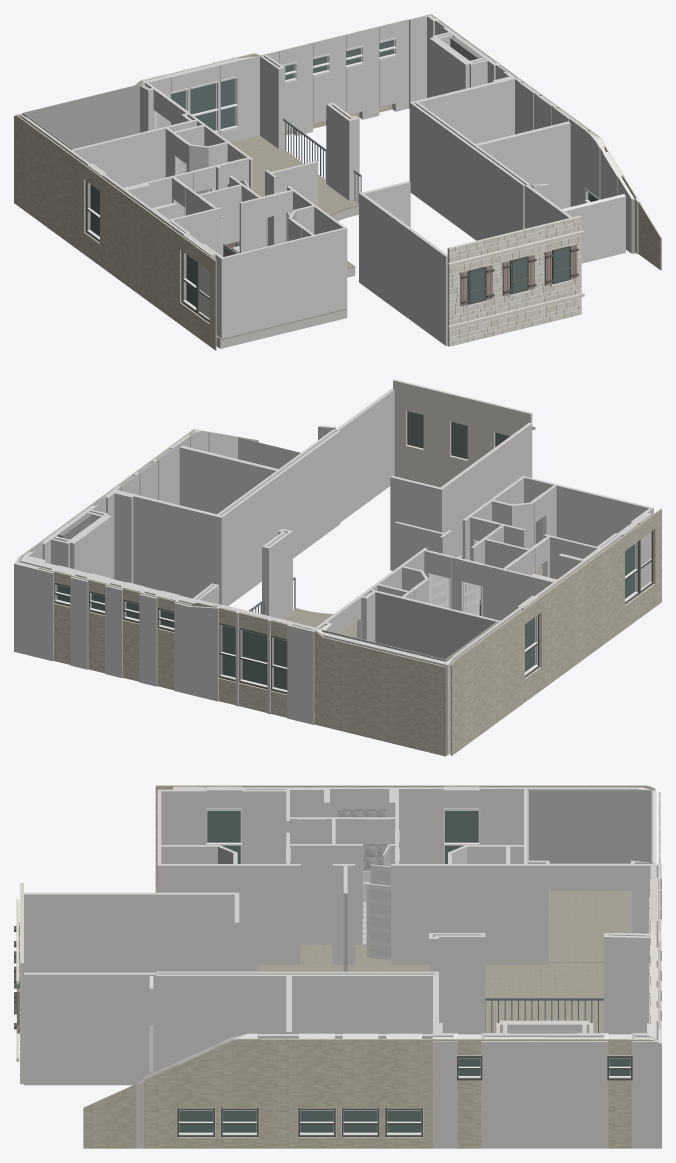
The model's file is second_floor.glb.
The picture shows the model from 3 angles, top to bottom: view 1: azimuth 30°, elevation 25°; view 2: azimuth 150°, elevation 25°; view 3: azimuth 270°, elevation 25°; orthographic projection. The views are drawn at different scales.
Visible parts, largest first — view 1: 0444_Upper_left_0, 0043_Source_vector_upper_walls_3_1, 0070_Source_vector_upper_walls_22_0, 0071_Source_vector_upper_walls_23_0, 0064_Source_vector_upper_walls_16_3, 0438_Media_Downpour_paint_0, 0042_Source_vector_upper_walls_3_0, 0068_Source_vector_upper_walls_20_0, 0069_Source_vector_upper_walls_21_0, 0040_Source_vector_upper_walls_2_0, 0065_Source_vector_upper_walls_17_0, 0003_Game room_floor_0 (+36 smaller); view 2: 0043_Source_vector_upper_walls_3_1, 0445_Upper_rear_0, 0444_Upper_left_0, 0446_Foyer_tower_stone, 0070_Source_vector_upper_walls_22_0, 0042_Source_vector_upper_walls_3_0, 0071_Source_vector_upper_walls_23_0, 0440_Media_Downpour_paint_0, 0068_Source_vector_upper_walls_20_0, 0040_Source_vector_upper_walls_2_0, 0064_Source_vector_upper_walls_16_3, 0060_Source_vector_upper_walls_15_1 (+23 smaller); view 3: 0043_Source_vector_upper_walls_3_1, 0443_Upper_right_0, 0064_Source_vector_upper_walls_16_3, 0071_Source_vector_upper_walls_23_0, 0040_Source_vector_upper_walls_2_0, 0070_Source_vector_upper_walls_22_0, 0068_Source_vector_upper_walls_20_0, 0439_Media_Downpour_paint_0, 0003_Game room_floor_0, 0069_Source_vector_upper_walls_21_0, 0065_Source_vector_upper_walls_17_0, 0004_Media room_floor_0 (+27 smaller).
Boxes of the visible parts, x1=… form: 0444_Upper_left_0: x1=14, y1=115, x2=216, y2=350; 0043_Source_vector_upper_walls_3_1: x1=409, y1=97, x2=581, y2=298; 0070_Source_vector_upper_walls_22_0: x1=198, y1=186, x2=347, y2=338; 0071_Source_vector_upper_walls_23_0: x1=359, y1=181, x2=447, y2=337; 0064_Source_vector_upper_walls_16_3: x1=22, y1=112, x2=253, y2=233; 0438_Media_Downpour_paint_0: x1=23, y1=83, x2=141, y2=148; 0042_Source_vector_upper_walls_3_0: x1=431, y1=72, x2=522, y2=143; 0068_Source_vector_upper_walls_20_0: x1=102, y1=171, x2=221, y2=303; 0069_Source_vector_upper_walls_21_0: x1=185, y1=176, x2=266, y2=252; 0040_Source_vector_upper_walls_2_0: x1=429, y1=27, x2=499, y2=97; 0065_Source_vector_upper_walls_17_0: x1=326, y1=103, x2=359, y2=200; 0003_Game room_floor_0: x1=231, y1=135, x2=358, y2=215; 0043_Source_vector_upper_walls_3_1: x1=179, y1=389, x2=394, y2=601; 0445_Upper_rear_0: x1=38, y1=567, x2=446, y2=756; 0444_Upper_left_0: x1=450, y1=509, x2=661, y2=755; 0446_Foyer_tower_stone: x1=393, y1=379, x2=531, y2=487; 0070_Source_vector_upper_walls_22_0: x1=462, y1=476, x2=653, y2=591; 0042_Source_vector_upper_walls_3_0: x1=102, y1=486, x2=200, y2=595; 0071_Source_vector_upper_walls_23_0: x1=390, y1=422, x2=532, y2=562; 0440_Media_Downpour_paint_0: x1=375, y1=592, x2=496, y2=659; 0068_Source_vector_upper_walls_20_0: x1=482, y1=533, x2=621, y2=668; 0040_Source_vector_upper_walls_2_0: x1=38, y1=505, x2=111, y2=578; 0064_Source_vector_upper_walls_16_3: x1=358, y1=548, x2=521, y2=659; 0060_Source_vector_upper_walls_15_1: x1=189, y1=600, x2=222, y2=692; 0043_Source_vector_upper_walls_3_1: x1=24, y1=971, x2=438, y2=1074; 0443_Upper_right_0: x1=83, y1=1038, x2=655, y2=1148; 0064_Source_vector_upper_walls_16_3: x1=391, y1=787, x2=641, y2=964; 0071_Source_vector_upper_walls_23_0: x1=24, y1=892, x2=239, y2=972; 0040_Source_vector_upper_walls_2_0: x1=481, y1=1020, x2=608, y2=1137; 0070_Source_vector_upper_walls_22_0: x1=157, y1=787, x2=300, y2=965; 0068_Source_vector_upper_walls_20_0: x1=242, y1=787, x2=443, y2=863; 0439_Media_Downpour_paint_0: x1=528, y1=789, x2=651, y2=863; 0003_Game room_floor_0: x1=343, y1=964, x2=603, y2=1032; 0069_Source_vector_upper_walls_21_0: x1=286, y1=817, x2=362, y2=944; 0065_Source_vector_upper_walls_17_0: x1=429, y1=933, x2=485, y2=1034; 0004_Media room_floor_0: x1=550, y1=891, x2=630, y2=962.
Size of the model in its own units: 15.42 by 3.45 by 16.69.
Materials: 28 (5 with a texture image).
